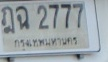txt07: (14, 5, 30, 30)
txt11: (1, 5, 15, 34)
